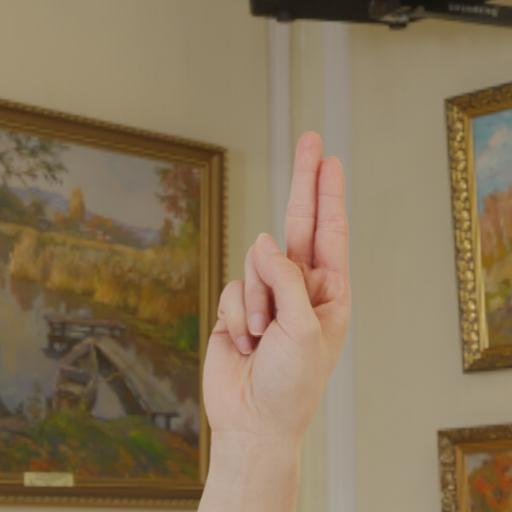U: (198, 125, 356, 461)
